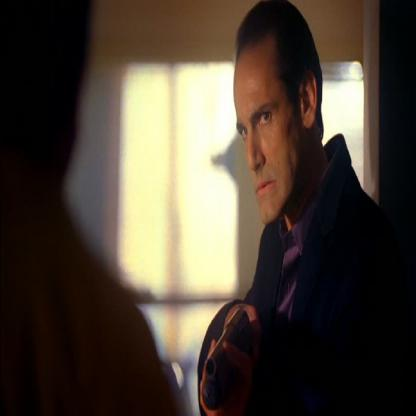Gun: (200, 305, 254, 415)
